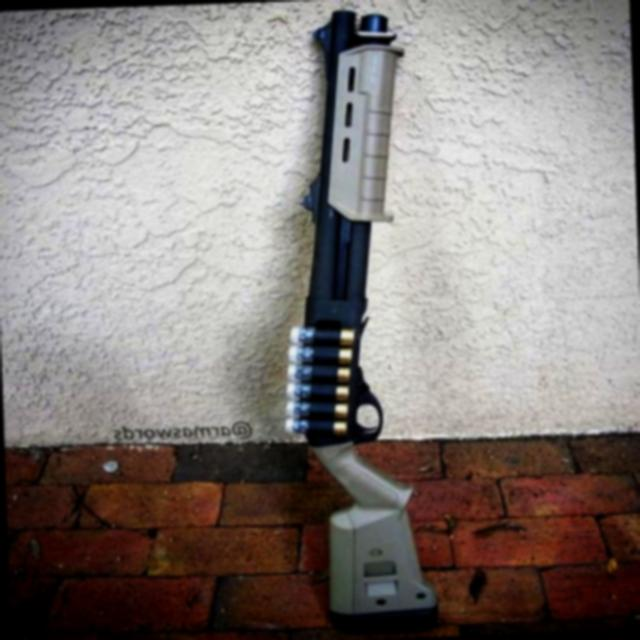shotgun: (259, 5, 457, 638)
